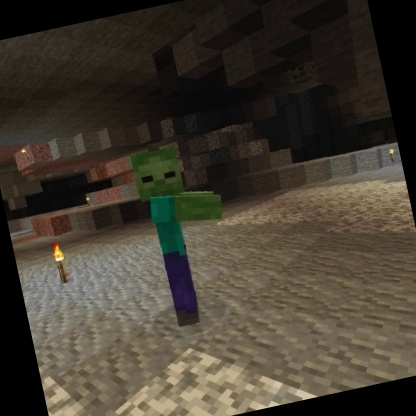zombie: (124, 133, 251, 335)
